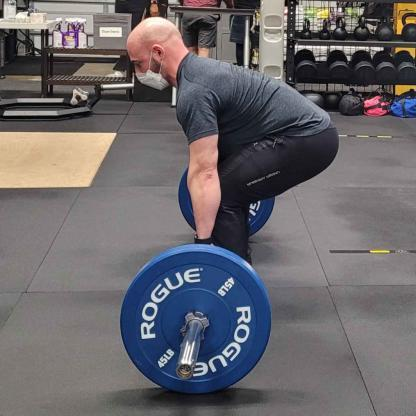Barbell: (177, 361, 198, 384)
